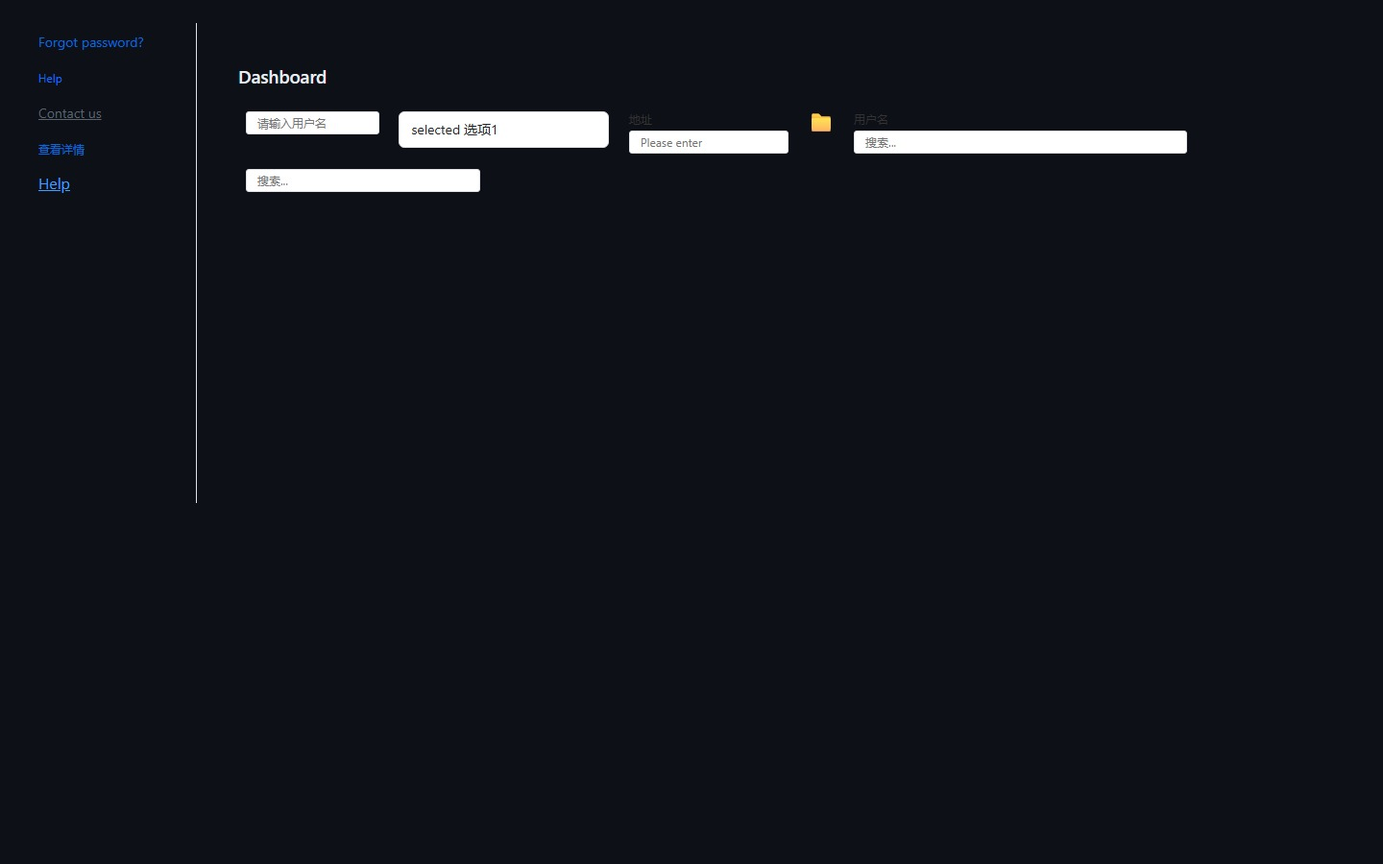icon: (808, 111, 834, 130)
input: (854, 130, 1187, 153), (246, 169, 480, 192), (629, 130, 788, 153), (246, 111, 379, 134)
link: (38, 33, 144, 51), (38, 104, 101, 122), (38, 141, 85, 156), (38, 173, 70, 193), (38, 70, 62, 85)
select: (399, 111, 609, 148)
